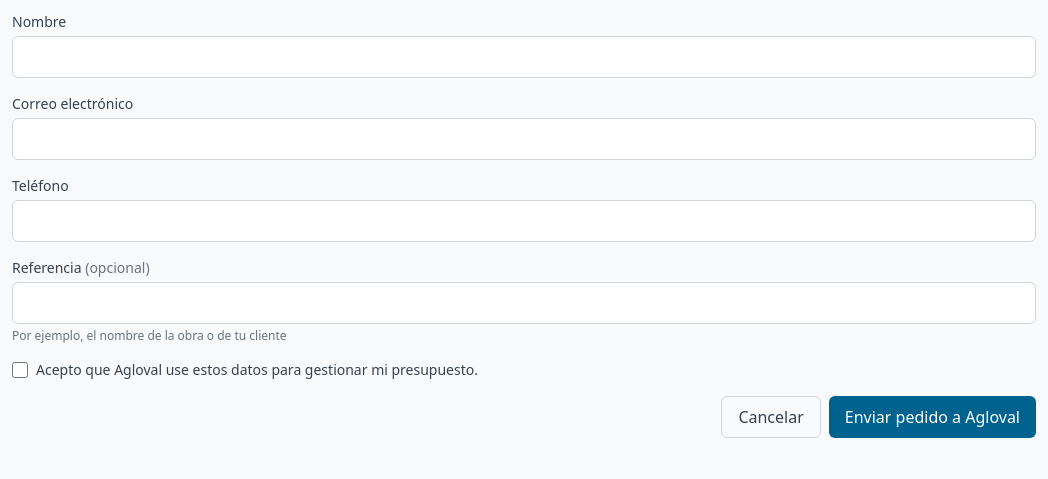
Test: CustomerDetailsForm › rejects an email without a domain
Step 1. Type "Lucía Ferrer" into the field labelled "Nombre" → (524, 57), box [12,36,1036,78]
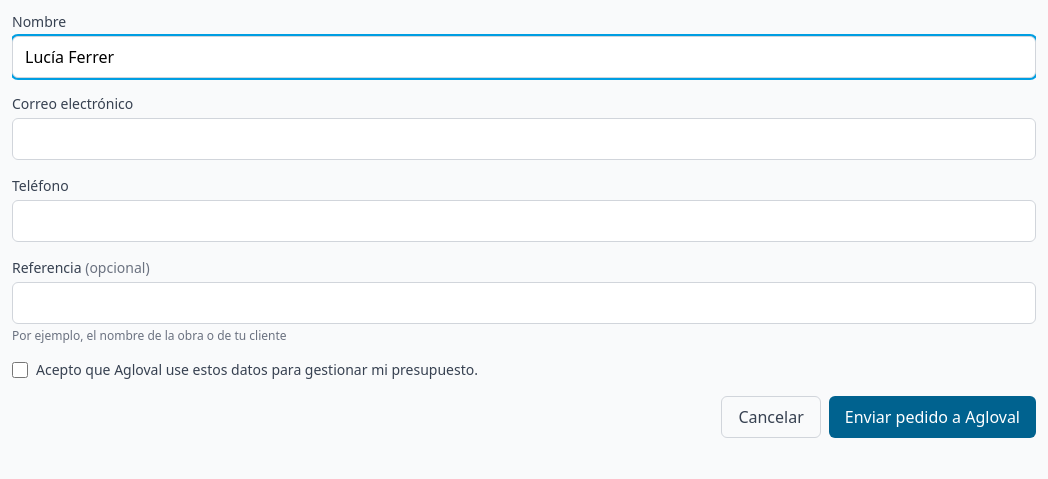
Step 2. Type "lucia@" into the field labelled "Correo electrónico" → (524, 139), box [12,118,1036,160]
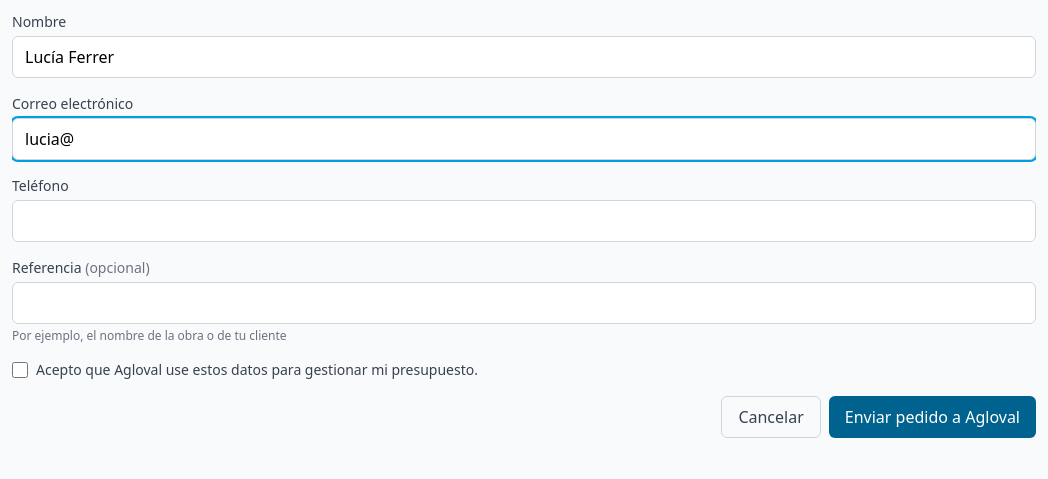
Step 3. Type "+34 600 123 456" into the field labelled "Teléfono" → (524, 221), box [12,200,1036,242]
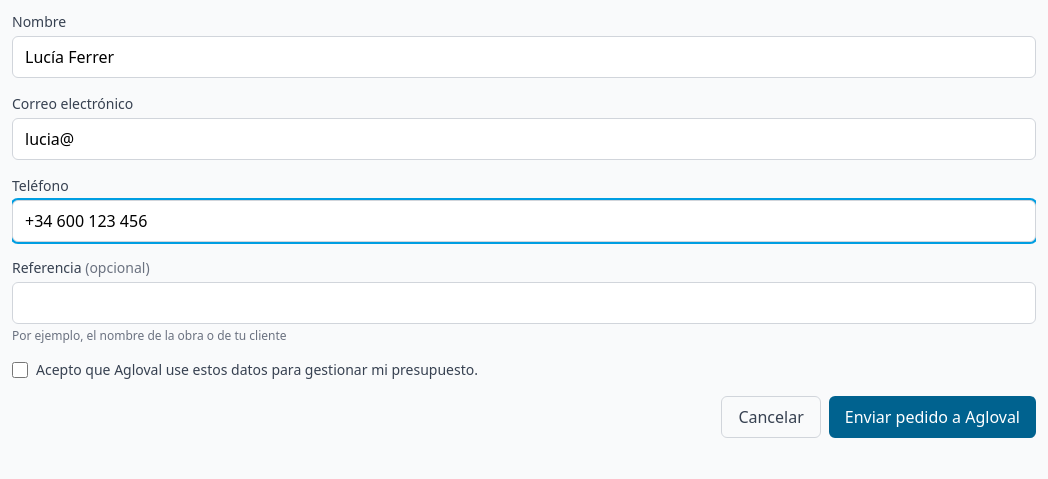
Step 4. Click the checkbox labelled "Acepto que Agloval use estos datos para gestionar mi presupuesto." → (20, 370), box [12,362,28,378]
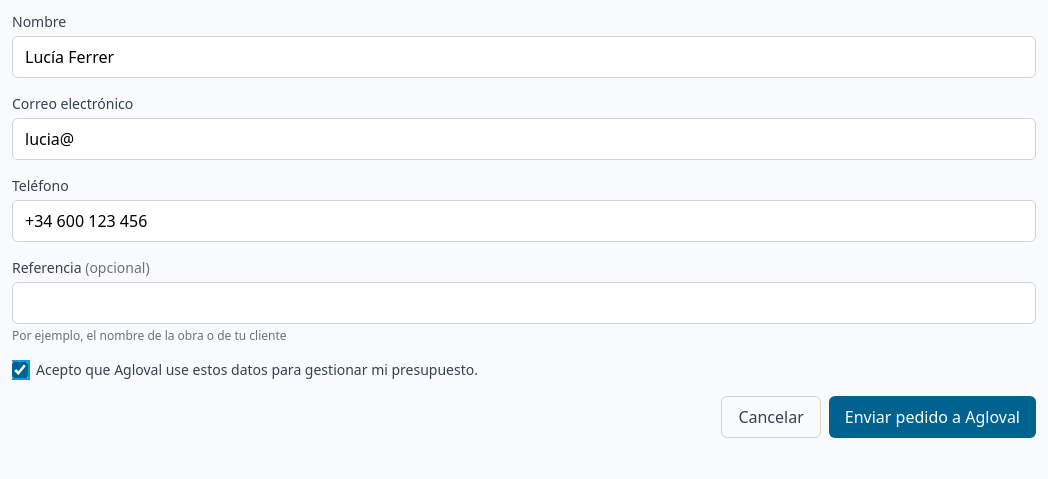
Step 5. Click the button "Enviar pedido a Agloval" → (932, 417), box [829,396,1036,438]
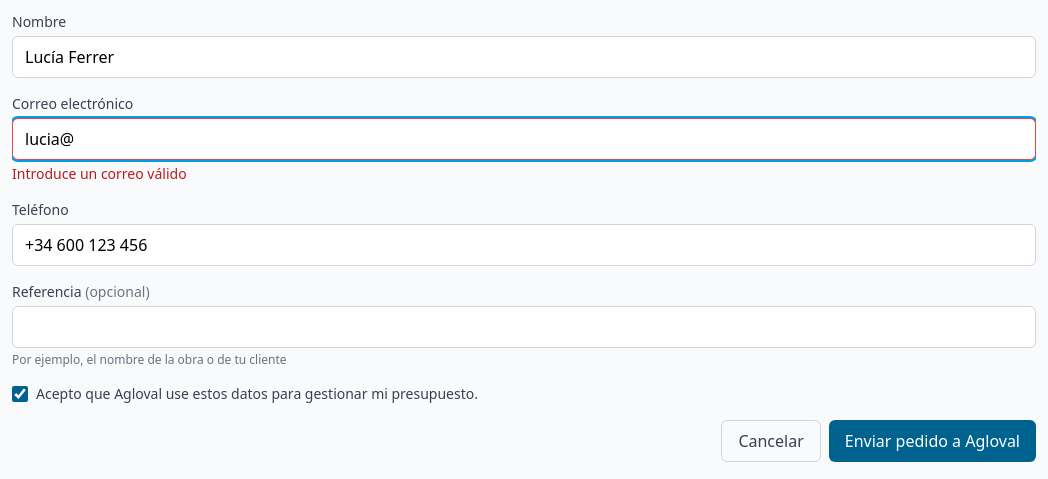
Check: the text "Introduce un correo válido" is shown, box [12,164,187,183]
